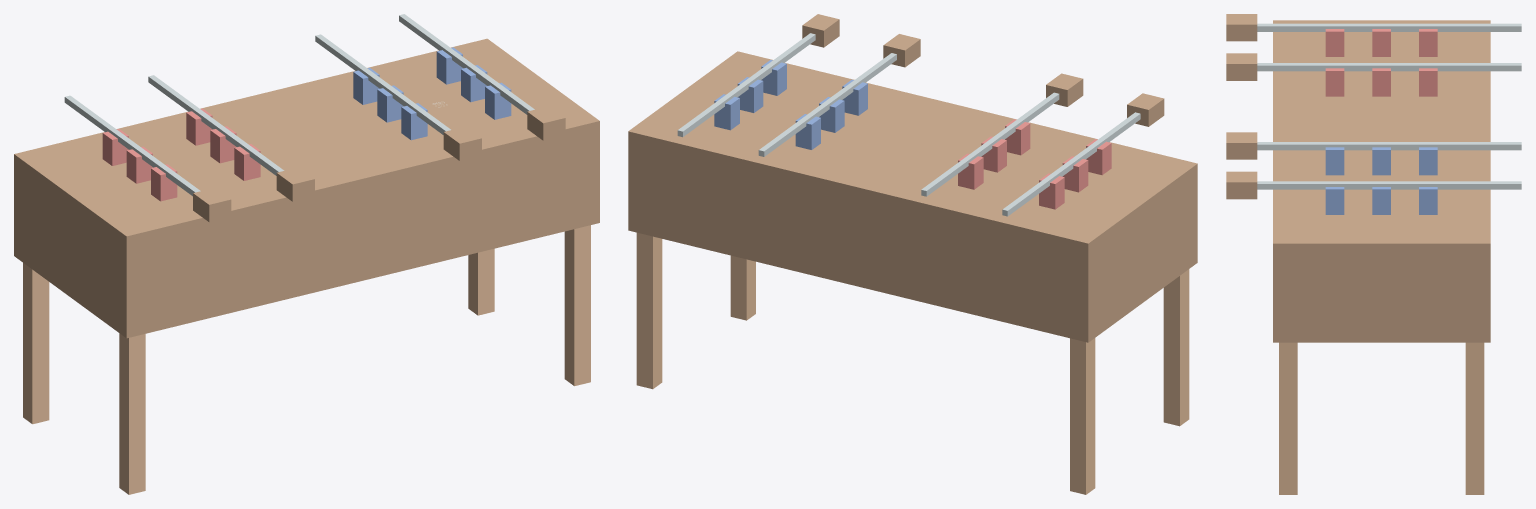
Rendered from foosballTable.glb.
The picture shows the model from 3 angles, left to right: view 1: azimuth 30°, elevation 25°; view 2: azimuth 150°, elevation 25°; view 3: azimuth 270°, elevation 25°; orthographic projection. The views are drawn at different scales.
Parts seen in each view (by area): view 1: foosballTable; view 2: foosballTable; view 3: foosballTable.
Part boxes in pixels (bbox=[...]): foosballTable: bbox=[14, 14, 599, 494]; foosballTable: bbox=[628, 14, 1197, 494]; foosballTable: bbox=[1226, 14, 1521, 494].
Bounding box in the file's own units: 0.85 × 0.51 × 0.475.
